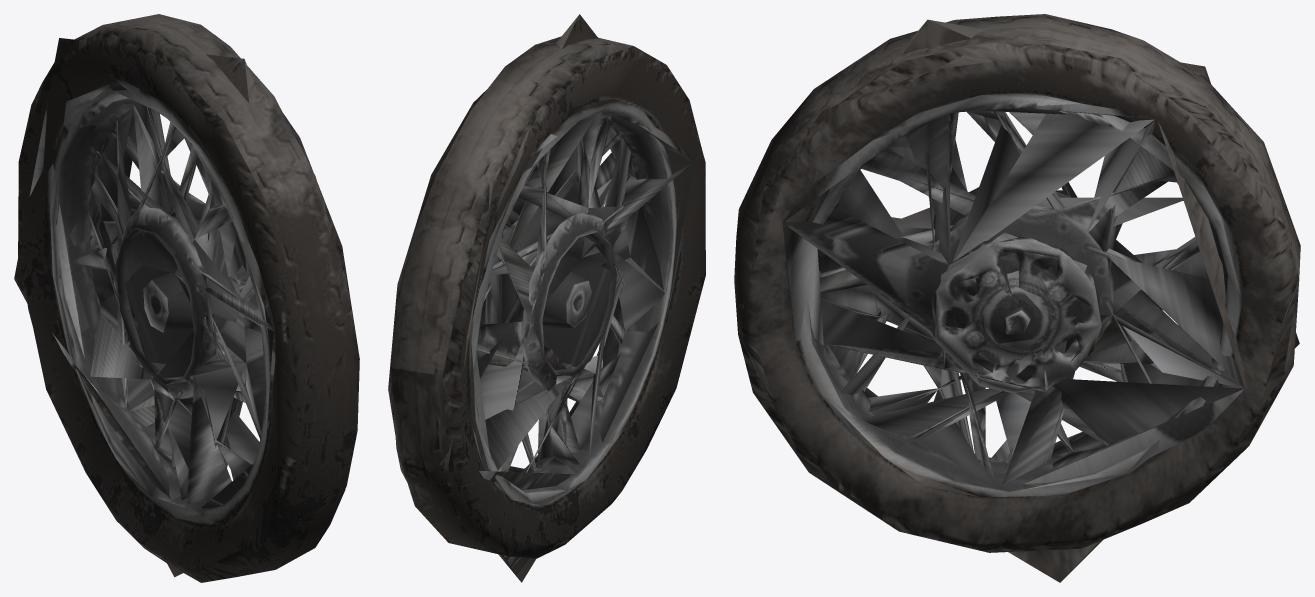
File: wheel_bike.glb
3 views of the same model, side by side, from view 1: azimuth 30°, elevation 25°; view 2: azimuth 150°, elevation 25°; view 3: azimuth 270°, elevation 25° (orthographic). The views are drawn at different scales.
Parts seen in each view (by area): view 1: near, far; view 2: near, far; view 3: near, far.
Part boxes in pixels (<box>): near: <box>18,14,359,582</box>; far: <box>14,38,275,577</box>; near: <box>388,36,705,558</box>; far: <box>439,14,694,582</box>; near: <box>734,14,1300,552</box>; far: <box>782,19,1299,582</box>.
Bounding box in the file's own units: 0.5025 × 2.17 × 1.98.
1 material, 1 textured.
